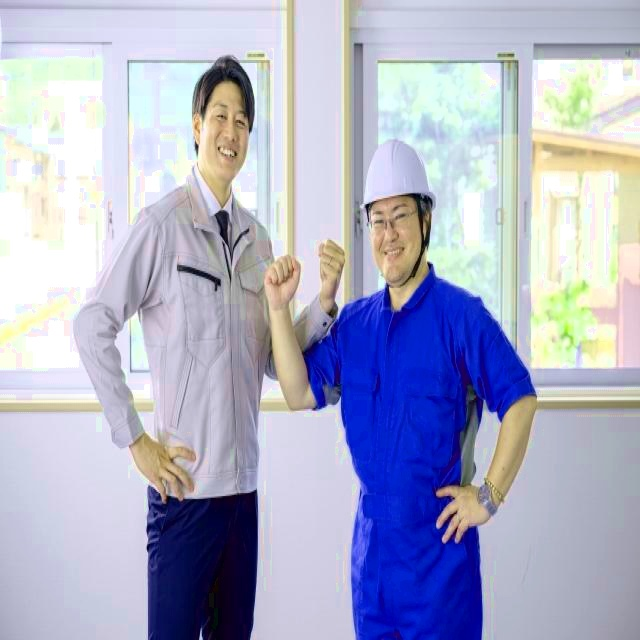Con_Casco: (364, 136, 437, 288)
Sin_Casco_Mascarrilla: (191, 56, 259, 184)
Sin_Chaleco: (136, 195, 269, 493), (338, 285, 481, 537)
